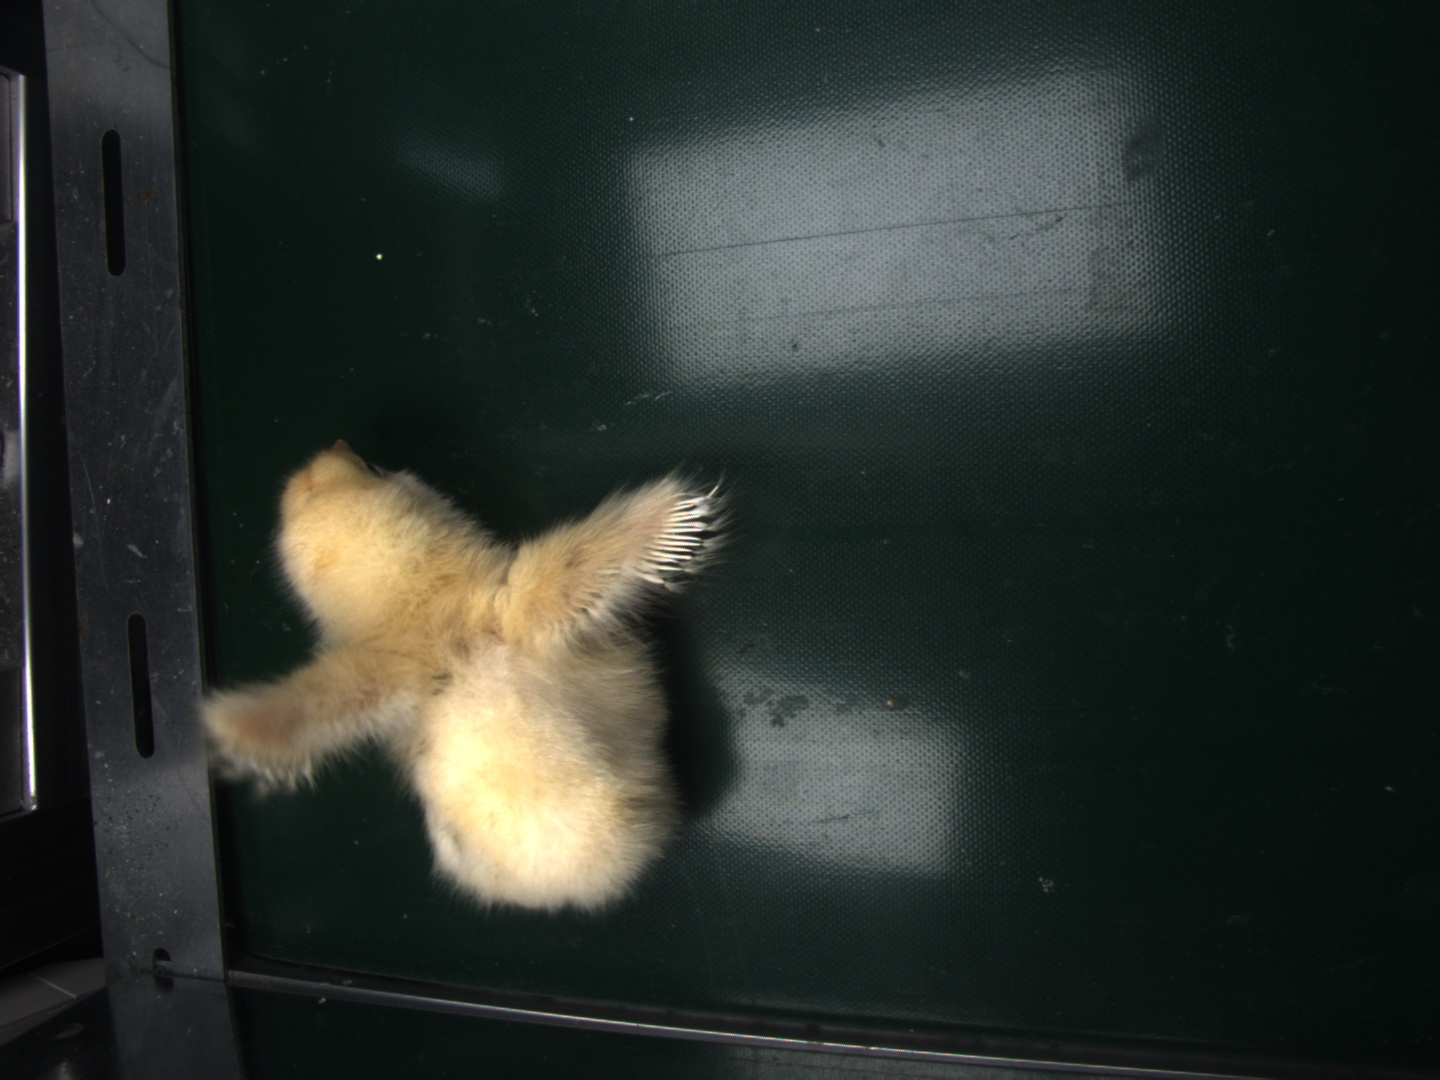male: (641, 482, 714, 574)
